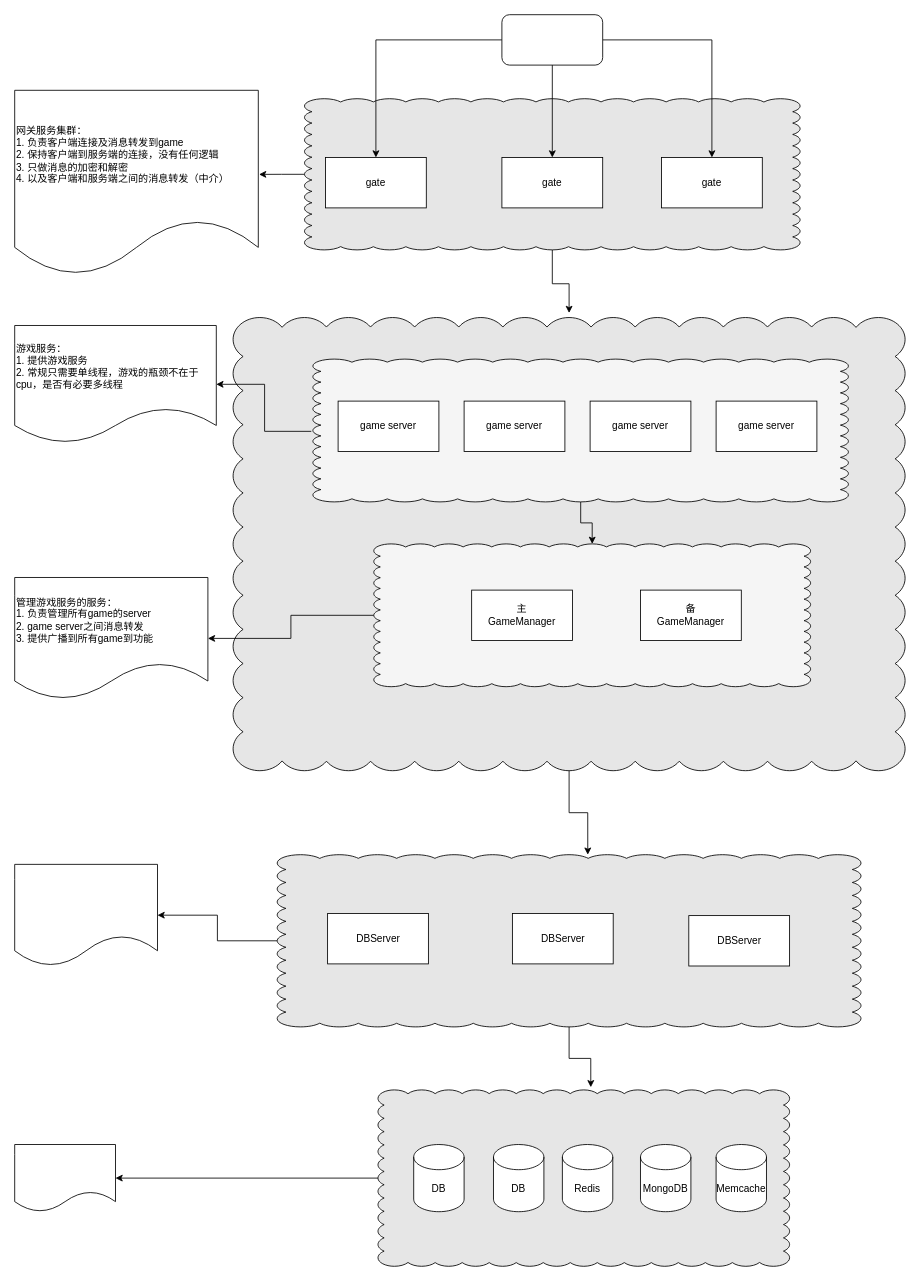
Some shapes in this 920 by 1281 pixel diagram are drawn without their labels. Here are the shapes that lost their labels. From the top down, the centre of each, then its label:
point (552, 39): client
point (86, 915): 数据库服务： 1. 实现数据库的读写 2. 异步读写数据库数据
point (65, 1178): 数据库： 1. 数据存储介质
